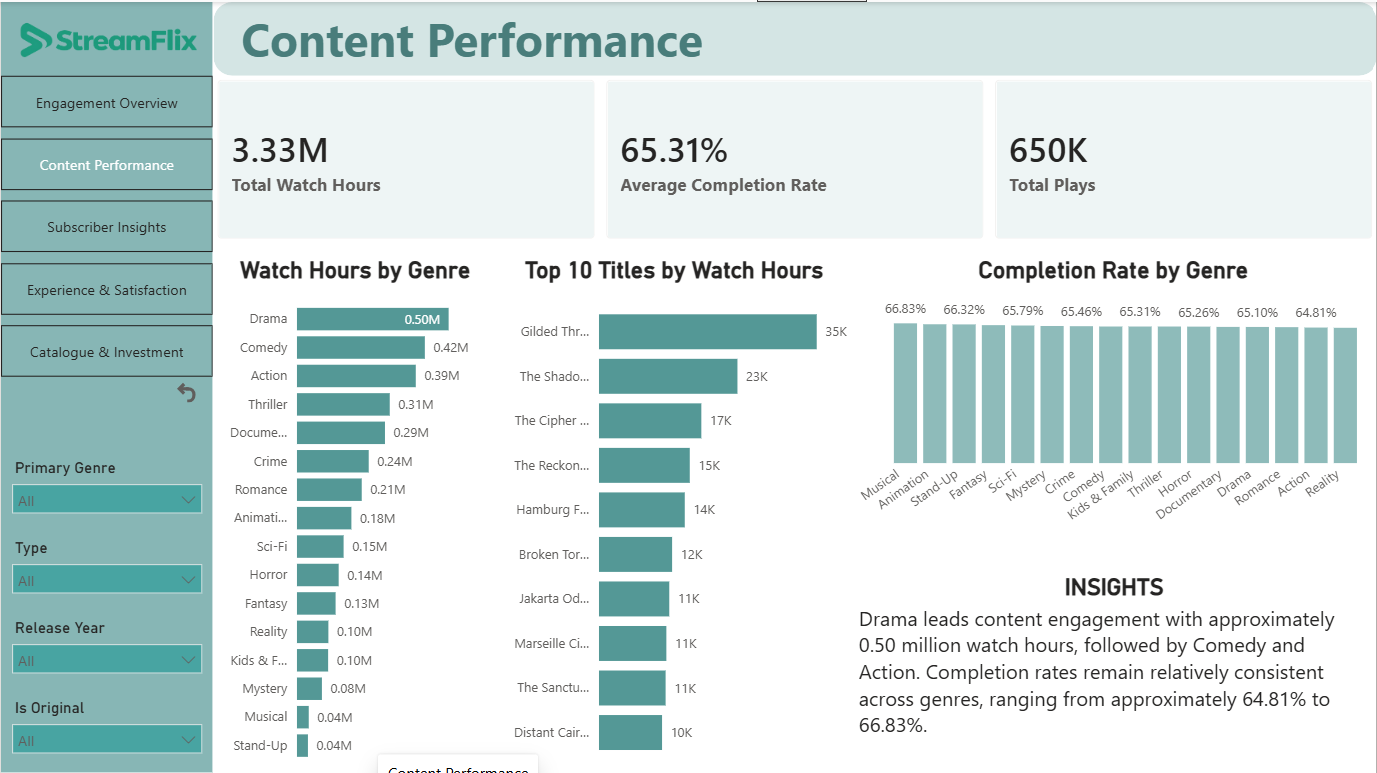

The page's visual inventory and layout, read from the dashboard file:
{"tool":"powerbi","page":{"name":"Content Performance","canvas":[1280,720],"ordinal":1},"visuals":[{"type":"group","id":"g1","title":"Group 1","box":[196,68,1084,158],"z":0},{"type":"cardVisual","fields":{"Data":["public watch_history.Total Watch Hours"]},"box":[196,68,361.5,158.8],"z":0,"group":"g1"},{"type":"clusteredBarChart","title":"Watch Hours by Genre","fields":{"Category":["public titles.primary_genre"],"Y":["public watch_history.Total Watch Hours"]},"box":[196.8,227.3,265.8,491.1],"z":0,"group":"g2"},{"type":"cardVisual","fields":{"Data":["public watch_history.Average Completion Rate (%)"]},"box":[557.5,68,361.5,158.8],"z":1000,"group":"g1"},{"type":"group","id":"g2","title":"Group 2","box":[196.8,227.3,1081.6,491.1],"z":1000},{"type":"clusteredBarChart","title":"Top 10 Titles by Watch Hours","fields":{"Category":["public titles.title_name"],"Y":["public watch_history.Total Watch Hours"]},"box":[461,227.3,331.5,491.1],"z":1000,"group":"g2"},{"type":"shape","box":[0,0,196.7,716.7],"z":2000},{"type":"cardVisual","fields":{"Data":["public titles.Total Plays"]},"box":[919,68,361.5,158.8],"z":2000,"group":"g1"},{"type":"clusteredColumnChart","title":"Completion Rate by Genre","fields":{"Category":["public titles.primary_genre"],"Y":["public watch_history.Average Completion Rate (%)"]},"box":[792.5,227.3,485.9,279],"z":2000,"group":"g2"},{"type":"shape","box":[197.1,0,1082.9,68.6],"z":3000},{"type":"textbox","box":[218.6,0,700,68.6],"z":4000},{"type":"image","box":[0,0,197.1,68.6],"z":5000},{"type":"pageNavigator","box":[0,68.6,197.1,281.4],"z":6000},{"type":"textbox","title":"INSIGHTS","box":[793.4,521.5,485,196.8],"z":7000},{"type":"actionButton","box":[159.3,350,36,26.7],"z":8000},{"type":"slicer","fields":{"Values":["public titles.primary_genre"]},"box":[0,419.8,197.1,74.3],"z":8000,"group":"g3"},{"type":"group","id":"g3","title":"Group 3","box":[0,419.8,197.7,296.5],"z":9000},{"type":"slicer","fields":{"Values":["public titles.type"]},"box":[0,494.1,197.1,74.3],"z":9000,"group":"g3"},{"type":"slicer","fields":{"Values":["public titles.release_year"]},"box":[0,568.4,197.1,74.3],"z":10000,"group":"g3"},{"type":"slicer","fields":{"Values":["public titles.is_original"]},"box":[0,642.7,197.1,74.3],"z":11000,"group":"g3"}]}

Visuals, with their boxes on the page's 1280x720 design canvas (x1, y1, x2, y2). These are canvas units, not pixel positions in the 1377x773 screenshot, which may show the page scaled, cropped or inside an application window:
"Group 1" group: bbox(196, 68, 1280, 226)
cardVisual - public watch_history.Total Watch Hours: bbox(196, 68, 558, 227)
"Watch Hours by Genre" clusteredBarChart: bbox(197, 227, 463, 718)
cardVisual - public watch_history.Average Completion Rate (%): bbox(558, 68, 919, 227)
"Group 2" group: bbox(197, 227, 1278, 718)
"Top 10 Titles by Watch Hours" clusteredBarChart: bbox(461, 227, 792, 718)
shape: bbox(0, 0, 197, 717)
cardVisual - public titles.Total Plays: bbox(919, 68, 1280, 227)
"Completion Rate by Genre" clusteredColumnChart: bbox(792, 227, 1278, 506)
shape: bbox(197, 0, 1280, 69)
textbox: bbox(219, 0, 919, 69)
image: bbox(0, 0, 197, 69)
pageNavigator: bbox(0, 69, 197, 350)
"INSIGHTS" textbox: bbox(793, 522, 1278, 718)
actionButton: bbox(159, 350, 195, 377)
slicer - public titles.primary_genre: bbox(0, 420, 197, 494)
"Group 3" group: bbox(0, 420, 198, 716)
slicer - public titles.type: bbox(0, 494, 197, 568)
slicer - public titles.release_year: bbox(0, 568, 197, 643)
slicer - public titles.is_original: bbox(0, 643, 197, 717)
